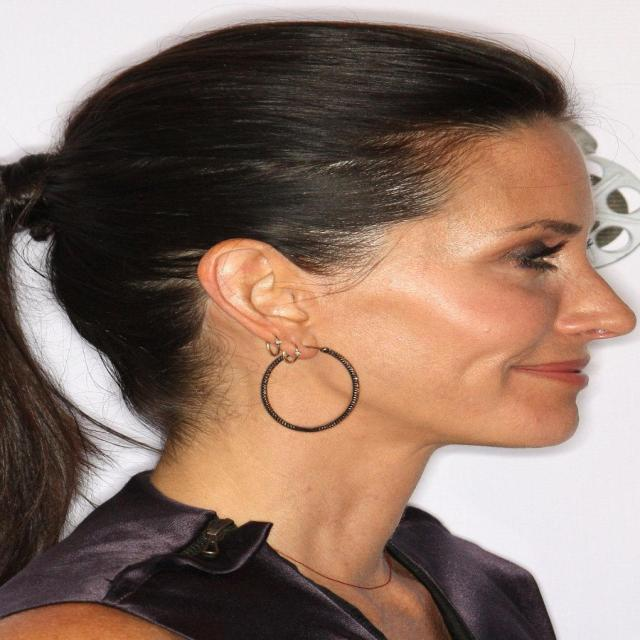no-earmuff: (182, 222, 368, 372)
